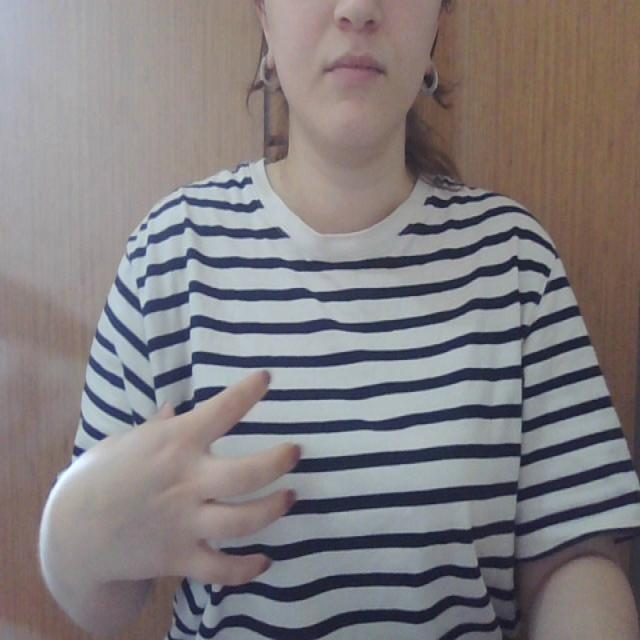Anne: (112, 360, 308, 596)
